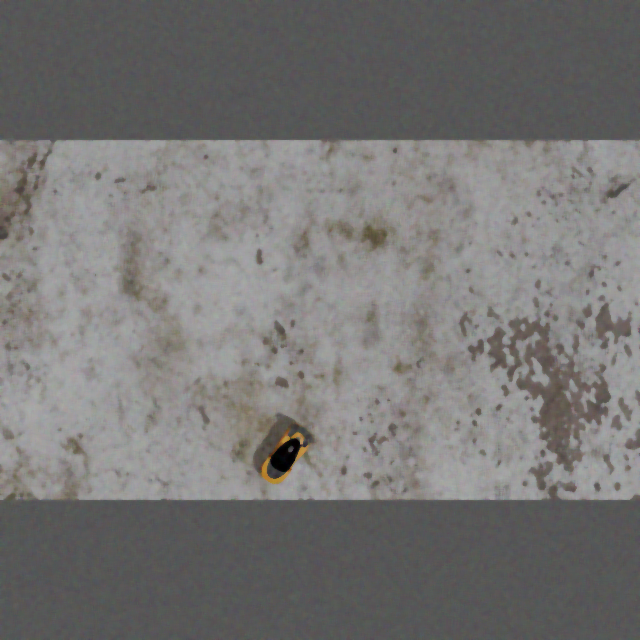car: (253, 417, 318, 492)
